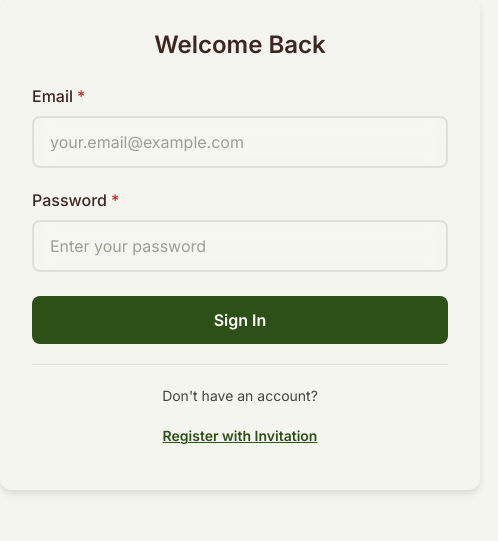
Scenario: LoginForm - Property-Based Tests › Property 5: Invalid login shows error - incomplete or invalid form data should prevent submission
The width and height of the screenshot is (498, 541).
Step 1. Type "Password123" into the password field labelled "Password*" → coordinates (240, 246), box [32,220,448,272]
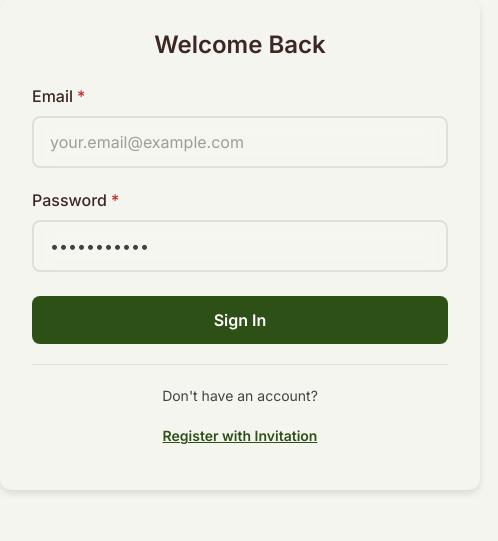
# Submit the form
Step 2. Click the button "Sign In" → coordinates (240, 320), box [32,296,448,344]
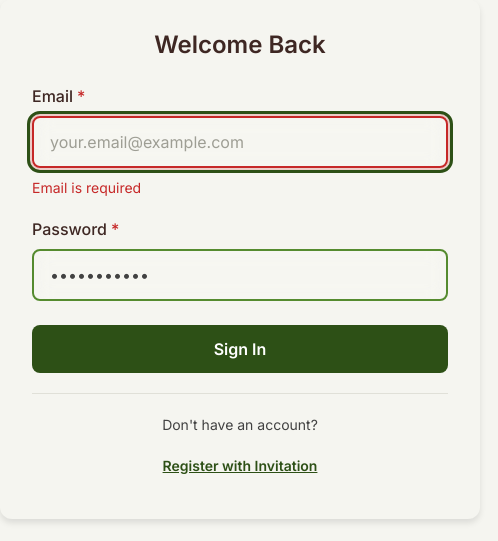
Expected: the text "Email is required" is shown, [32,179,141,196]
